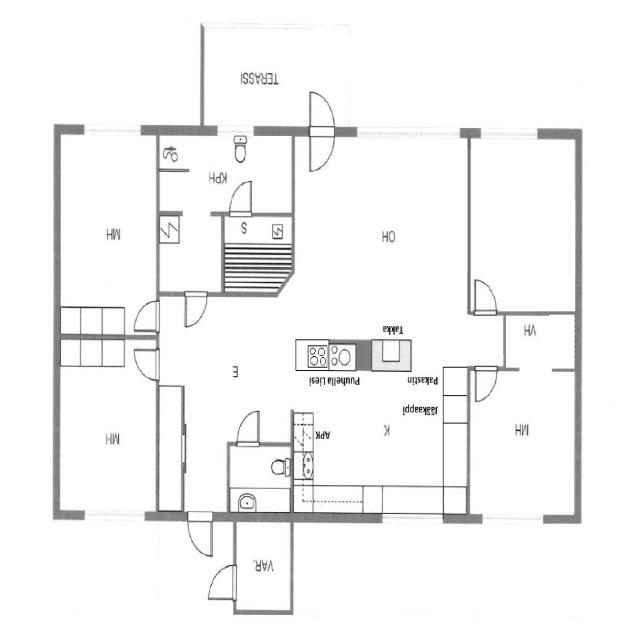door: (194, 516, 233, 606), (305, 92, 338, 176), (185, 508, 216, 563), (205, 558, 240, 604), (468, 273, 500, 317), (232, 406, 264, 449), (181, 289, 210, 332), (227, 176, 256, 219), (132, 344, 161, 384), (471, 364, 499, 404), (133, 298, 161, 335)
window: (351, 118, 464, 150), (372, 502, 456, 532), (76, 504, 151, 530), (474, 508, 550, 532), (78, 118, 147, 142), (476, 122, 544, 146), (214, 122, 258, 140), (178, 430, 191, 473)
zone: (288, 130, 475, 355), (300, 362, 472, 518), (56, 127, 159, 336), (467, 131, 581, 315), (55, 335, 159, 513), (466, 365, 580, 521), (157, 132, 293, 212), (221, 211, 295, 297), (234, 516, 294, 616), (169, 124, 293, 169), (158, 211, 222, 295), (226, 442, 294, 517), (502, 312, 580, 370)
